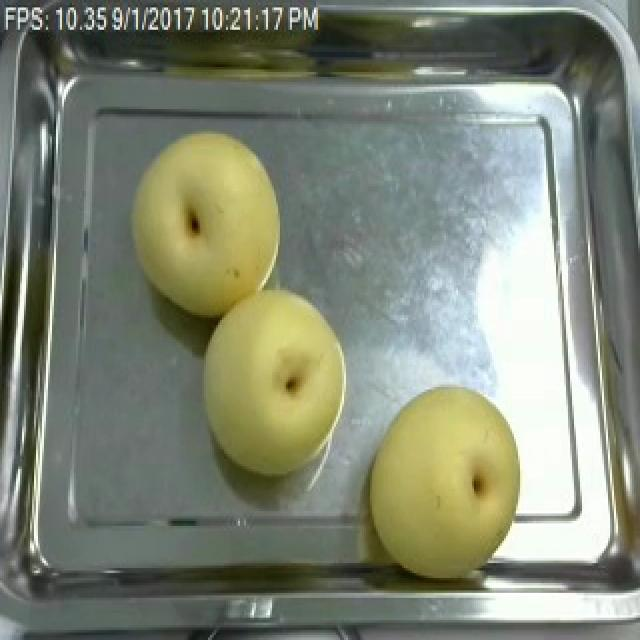Fruit: (358, 374, 534, 586), (122, 116, 290, 322), (192, 280, 356, 482)
